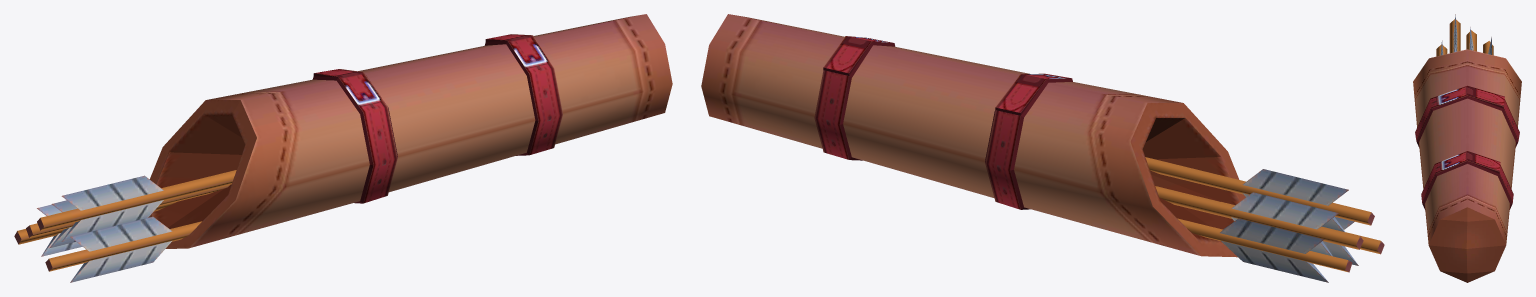
Rendered from acc_back0031.fbx.
3 views of the same model, side by side, from view 1: azimuth 30°, elevation 25°; view 2: azimuth 150°, elevation 25°; view 3: azimuth 270°, elevation 25° (orthographic). The views are drawn at different scales.
Visible parts, largest first — view 1: acc_back0031; view 2: acc_back0031; view 3: acc_back0031.
Part boxes in pixels (x1,y1,x2,y2): acc_back0031: (14, 14, 672, 282); acc_back0031: (701, 14, 1384, 282); acc_back0031: (1413, 14, 1521, 282).
Size of the model in its own units: 0.7314 by 0.1418 by 0.1475.
